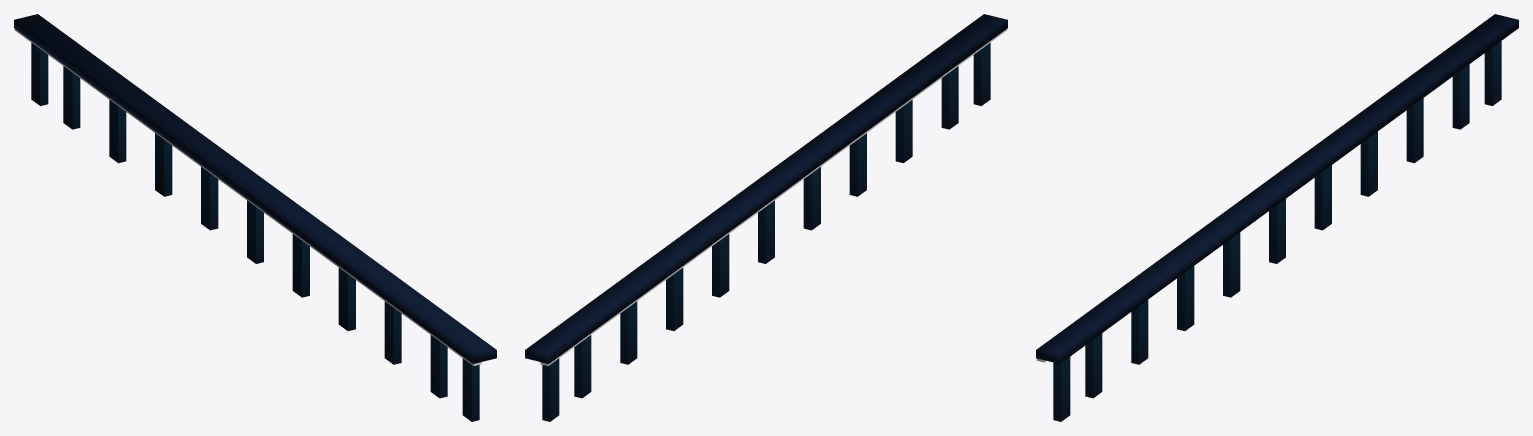
File: Railing.fbx
The picture shows the model from 3 angles, left to right: view 1: azimuth 30°, elevation 25°; view 2: azimuth 150°, elevation 25°; view 3: azimuth 330°, elevation 25°; orthographic projection.
Parts seen in each view (by area): view 1: Plane.039, Cube.044; view 2: Plane.039, Cube.044; view 3: Plane.039.
Part boxes in pixels (x1,y1,x2,y2): Plane.039: (14, 14, 496, 421); Cube.044: (14, 29, 481, 365); Plane.039: (525, 14, 1007, 421); Cube.044: (540, 29, 1007, 365); Plane.039: (1036, 14, 1518, 421).
Bounding box in the file's own units: 30 × 90 × 1000.
